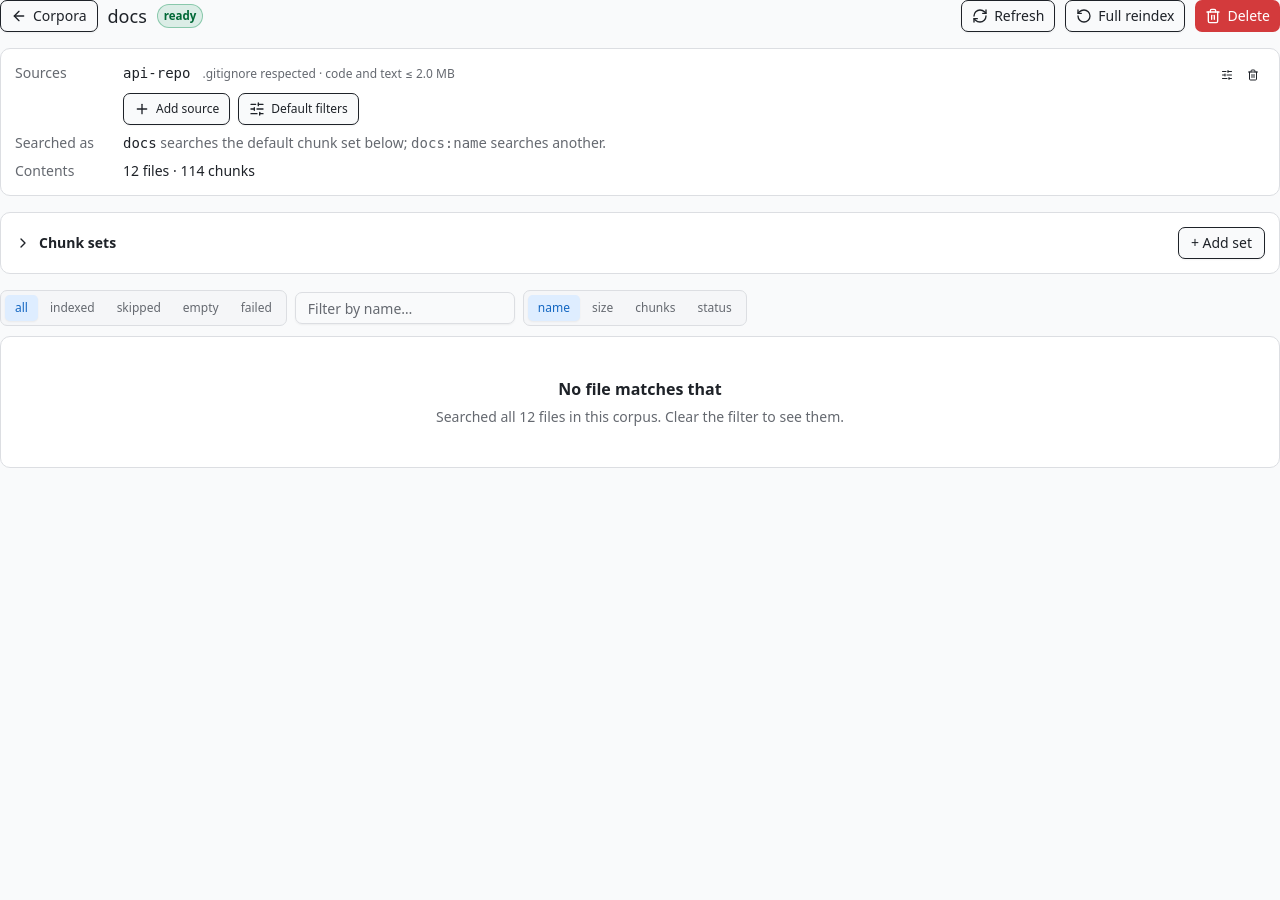
Test: adding a source › does not warn about a history source at the root, which is the repository only
Click the button "Add source" at (177, 109), box [123,93,230,125]
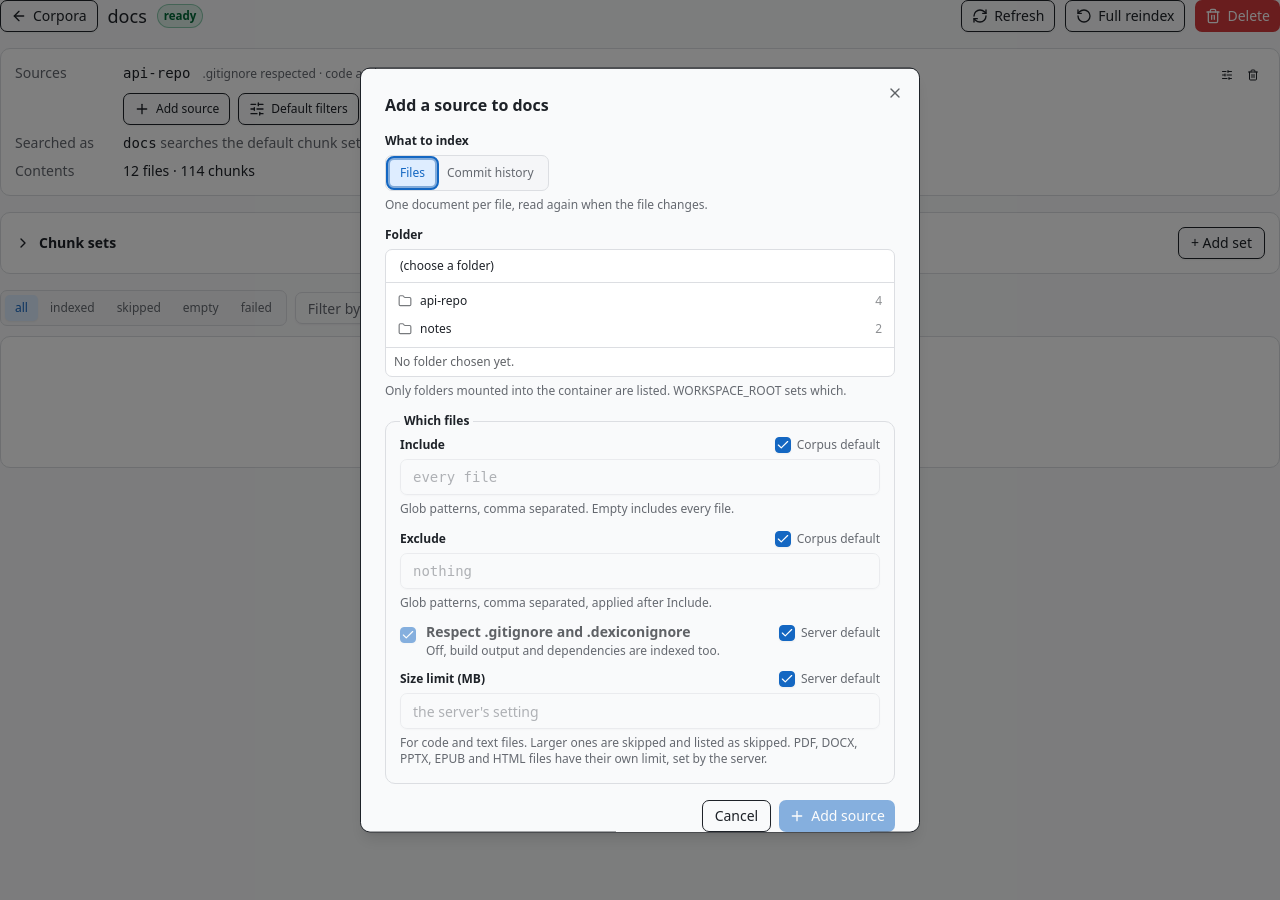
Click the button "(choose a folder)" at (447, 266), box [394,256,500,276]
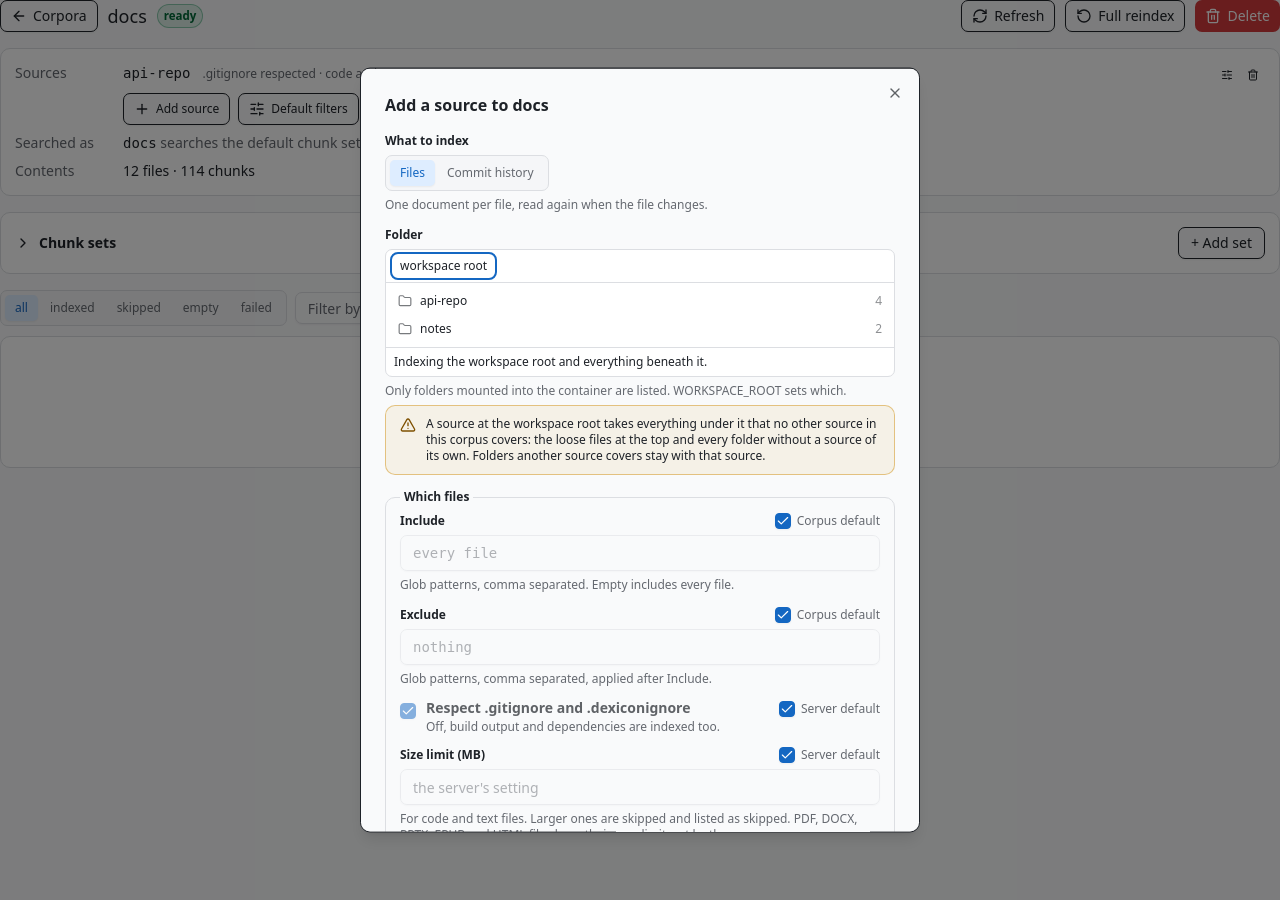
Click the radio button labelled "Commit history" at (490, 172), box [437,160,544,186]
(page scrolled)
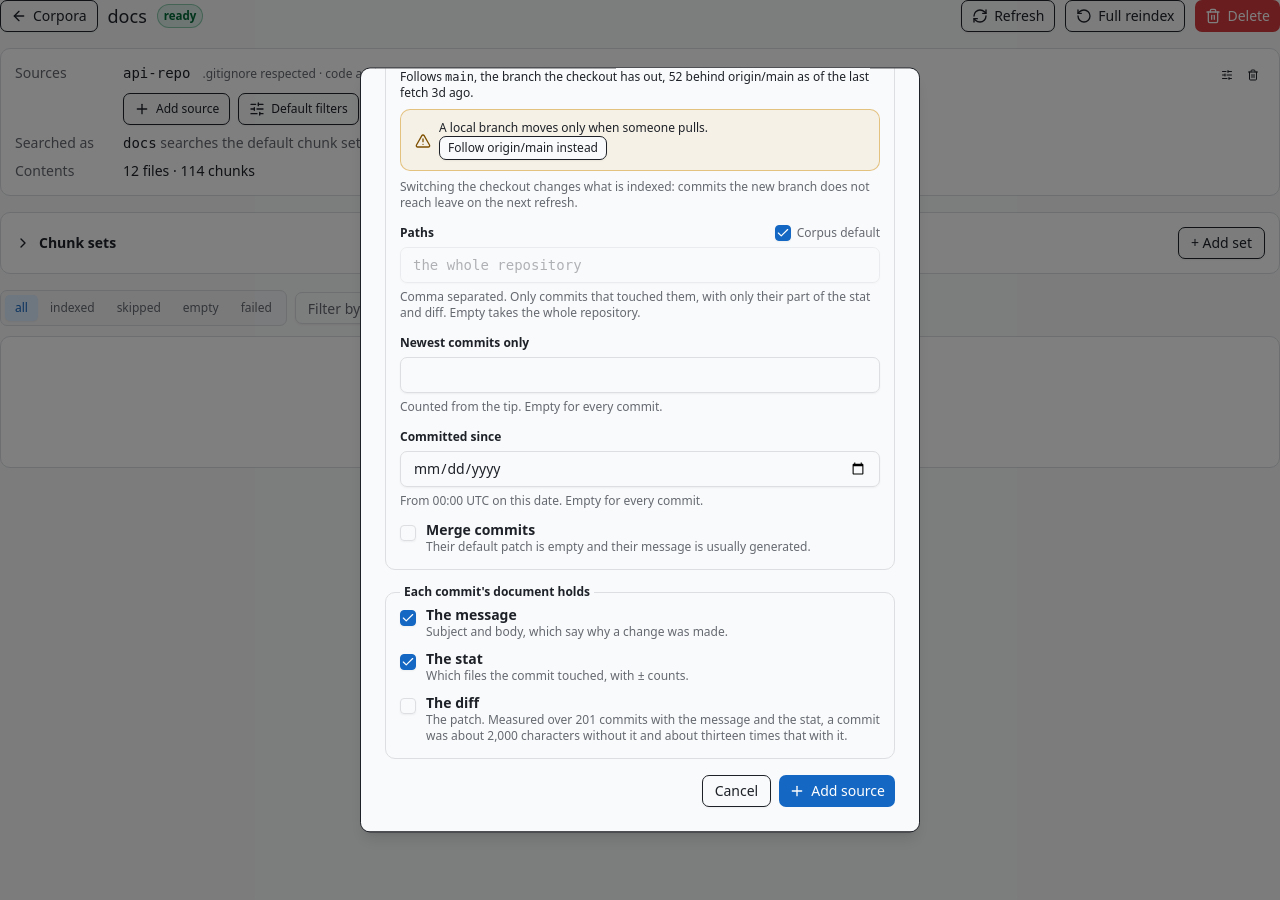
Now the text "takes everything under it" is gone
Now the text "everything beneath it" is gone
Now the button "Add source" is enabled, box [779,776,895,808]
